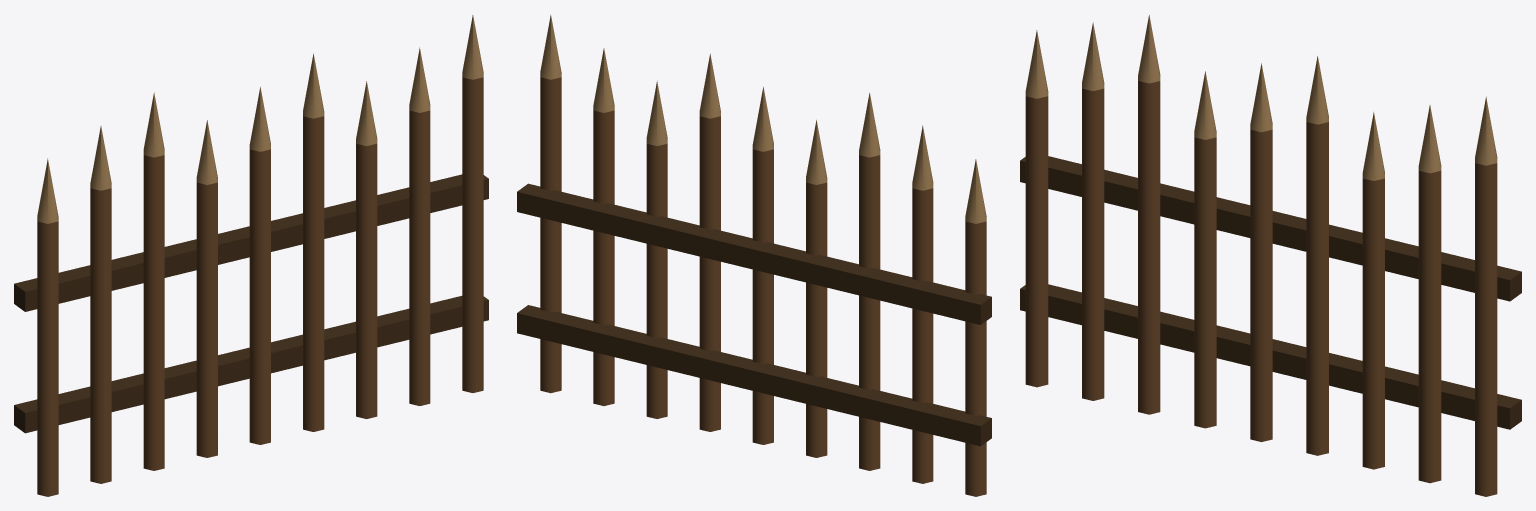
File: mv_spiked_fence.glb
3 views of the same model, side by side, from view 1: azimuth 30°, elevation 25°; view 2: azimuth 150°, elevation 25°; view 3: azimuth 330°, elevation 25° (orthographic). The views are drawn at different scales.
Parts seen in each view (by area): view 1: mv_spiked_fence; view 2: mv_spiked_fence; view 3: mv_spiked_fence.
Part boxes in pixels (x1,y1,x2,y2): mv_spiked_fence: [14, 15, 488, 496]; mv_spiked_fence: [517, 14, 991, 496]; mv_spiked_fence: [1020, 15, 1521, 496].
Bounding box in the file's own units: 2.4 × 1.85 × 0.1776.
